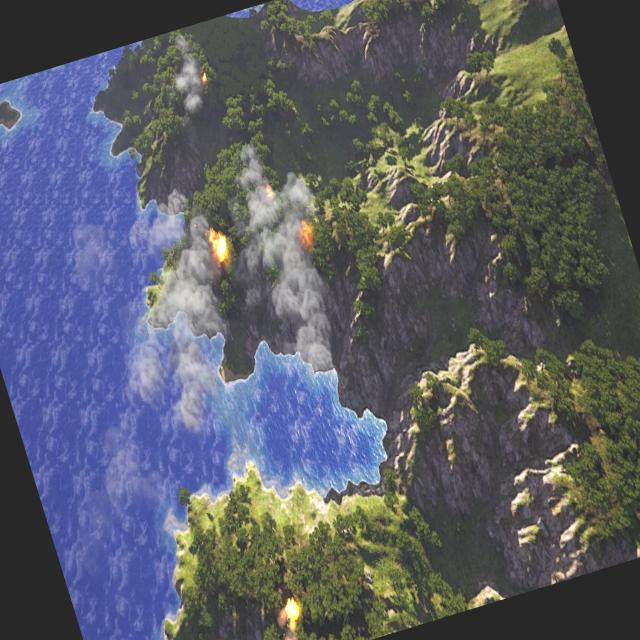fire: (207, 226, 234, 266), (280, 596, 305, 626), (294, 220, 316, 250), (262, 182, 278, 202), (198, 66, 211, 86)
smoke: (196, 130, 362, 392), (84, 210, 268, 446), (163, 38, 221, 132), (265, 610, 301, 640)
